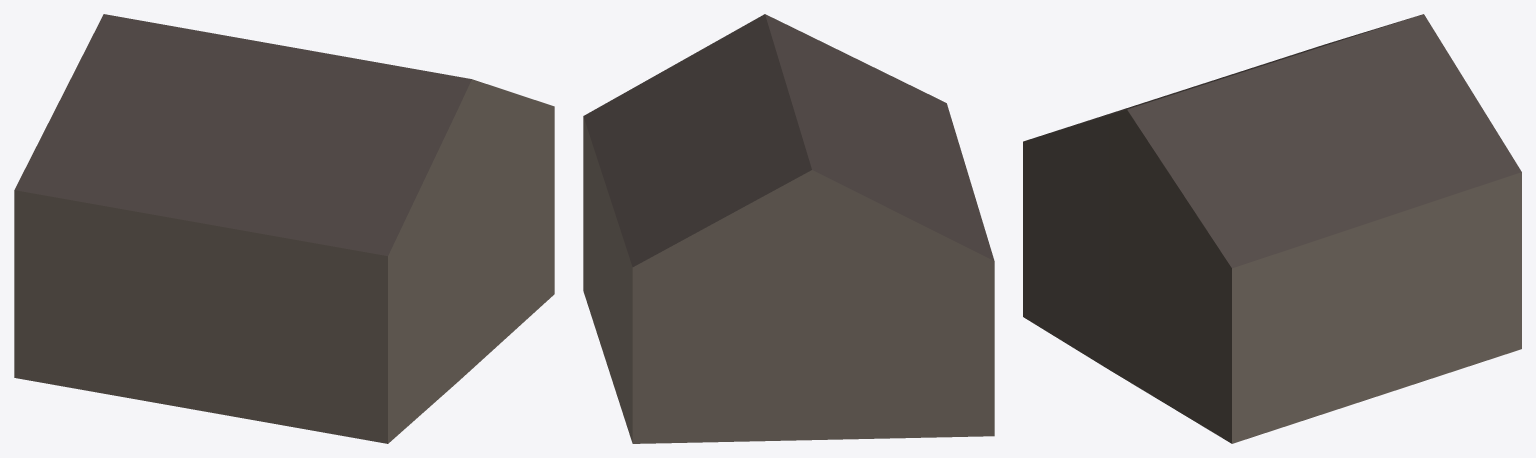
3 views of the same model, side by side, from view 1: azimuth 30°, elevation 25°; view 2: azimuth 150°, elevation 25°; view 3: azimuth 270°, elevation 25° (orthographic). The views are drawn at different scales.
Parts seen in each view (by area): view 1: HP-w1196726539; view 2: HP-w1196726539; view 3: HP-w1196726539.
Boxes of the visible parts, left/top/right/bottom form: HP-w1196726539: left=14, top=14, right=554, bottom=443; HP-w1196726539: left=583, top=14, right=994, bottom=443; HP-w1196726539: left=1023, top=14, right=1521, bottom=443.
Bounding box in the file's own units: 16.42 × 9.27 × 15.46.
